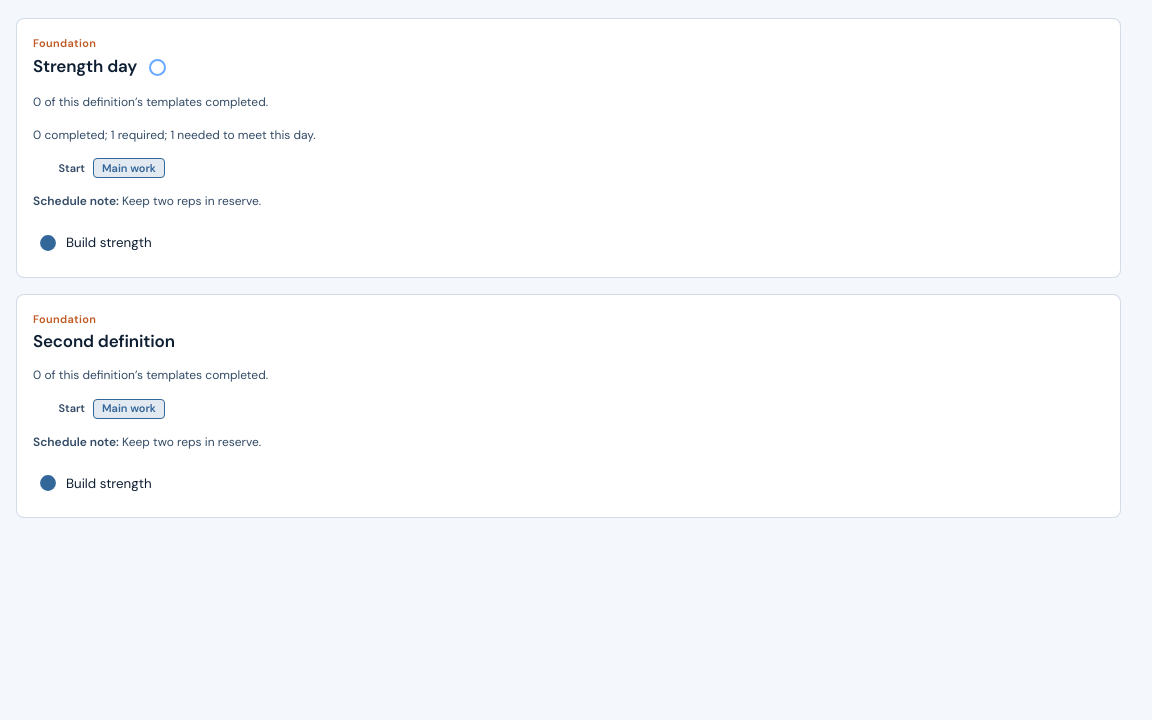
Test: ProgramDayPane › renders one date-level status control when definitions overlap
This screenshot has width=1152, height=720.
Click the button named "Change status for Strength day" at (157,67), box [145,55,169,79]
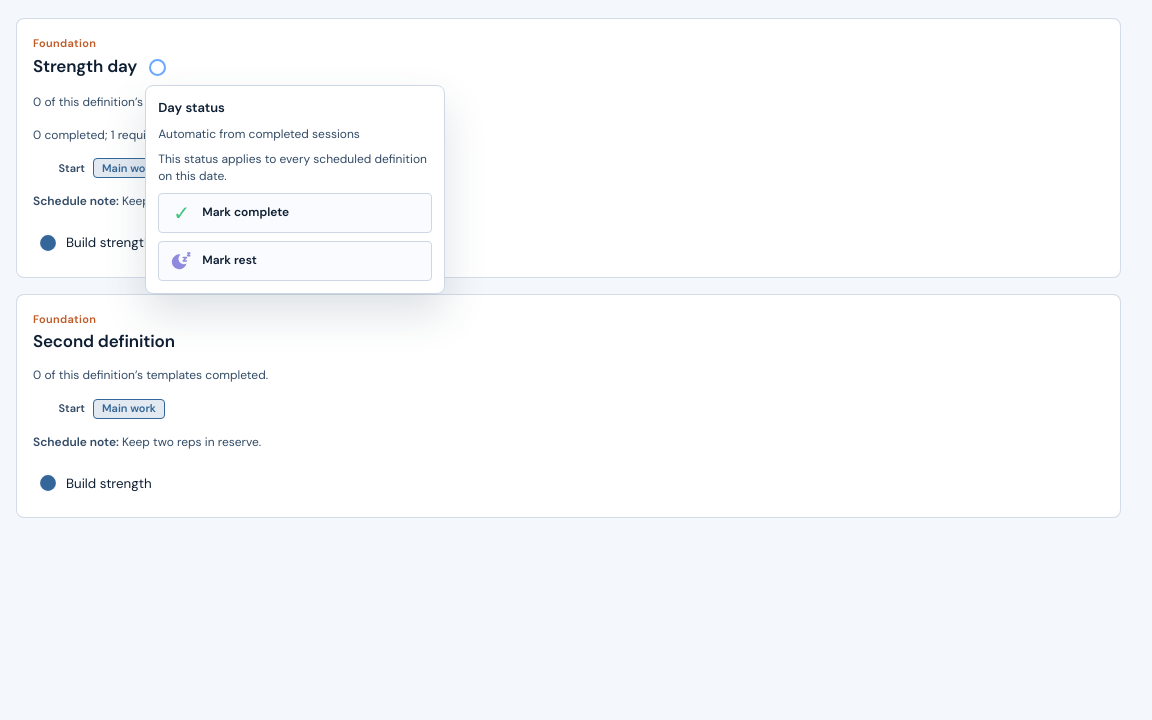
Check: the element "Second definition" does not show "Day status", box [16,294,1121,518]
Check: the text "This status applies to every scheduled definition on this date." is shown, box [158,151,432,185]
